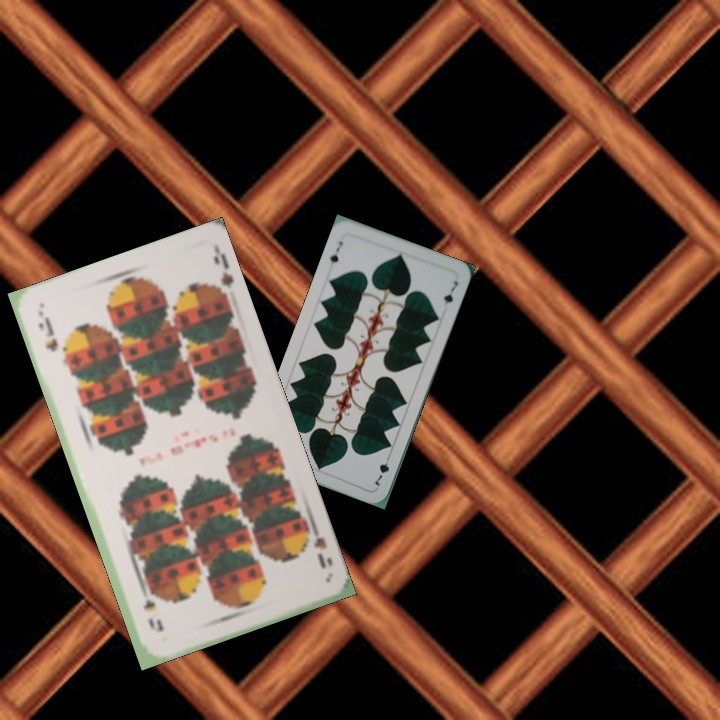G7: (369, 451, 393, 489), (325, 237, 345, 270)
S9: (303, 518, 330, 572), (34, 318, 61, 355)
